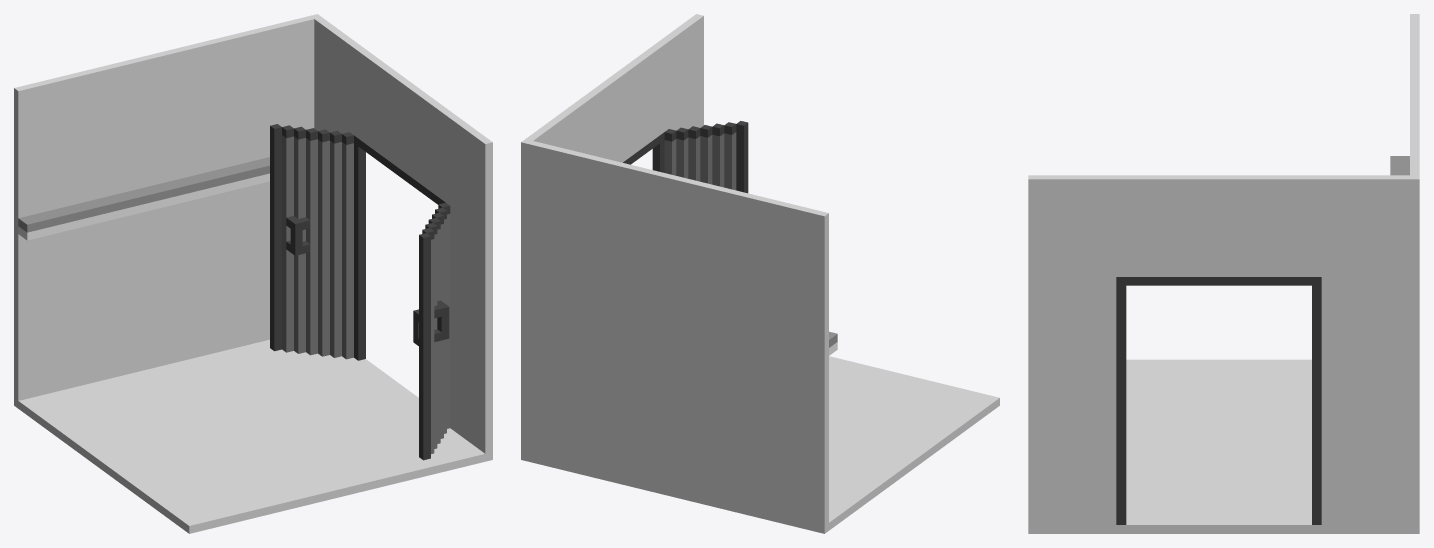
Rendered from Wall_Corner_with_duble_door_open(Ver_2).obj.
3 views of the same model, side by side, from view 1: azimuth 30°, elevation 25°; view 2: azimuth 150°, elevation 25°; view 3: azimuth 270°, elevation 25° (orthographic). The views are drawn at different scales.
Bounding box in the file's own units: 4 × 4 × 4.
1 material, 1 textured.
